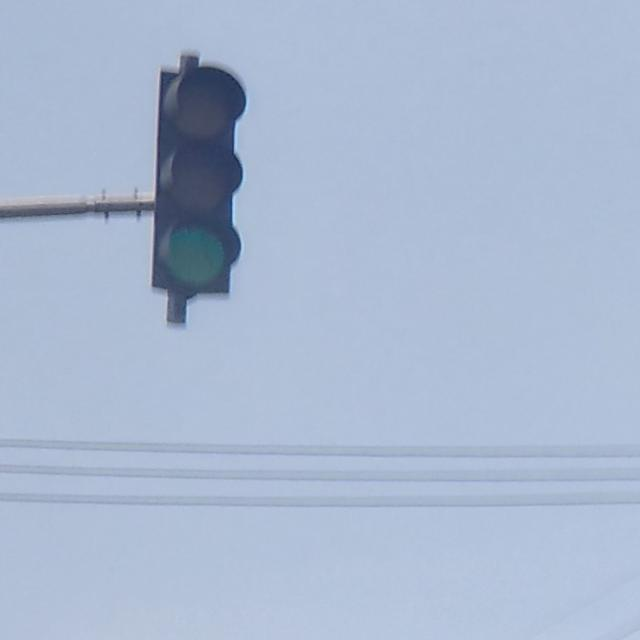green light: (153, 64, 248, 299)
